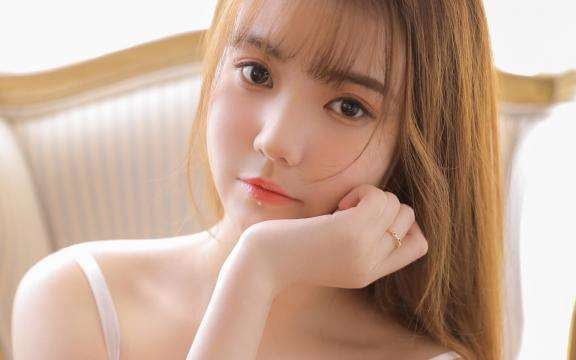person: (156, 27, 479, 307)
